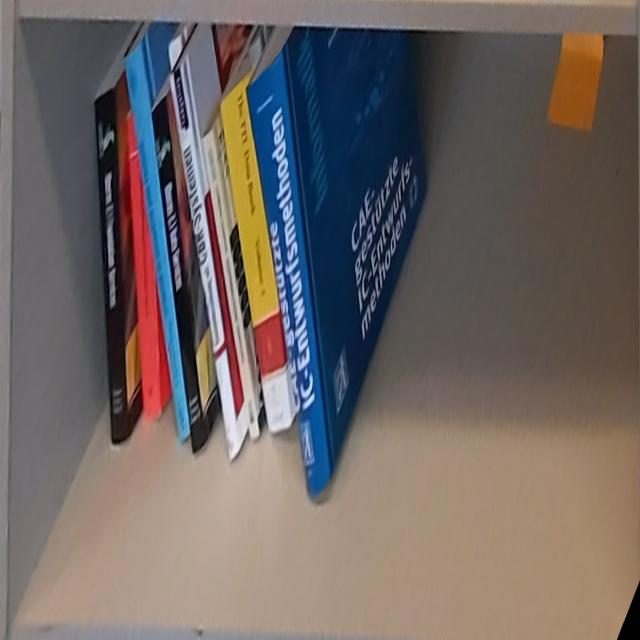Book Spine: (245, 49, 331, 497), (169, 59, 241, 461), (124, 41, 190, 442), (221, 71, 292, 435), (151, 94, 205, 456), (202, 128, 260, 440), (94, 86, 129, 444), (127, 114, 162, 420)
